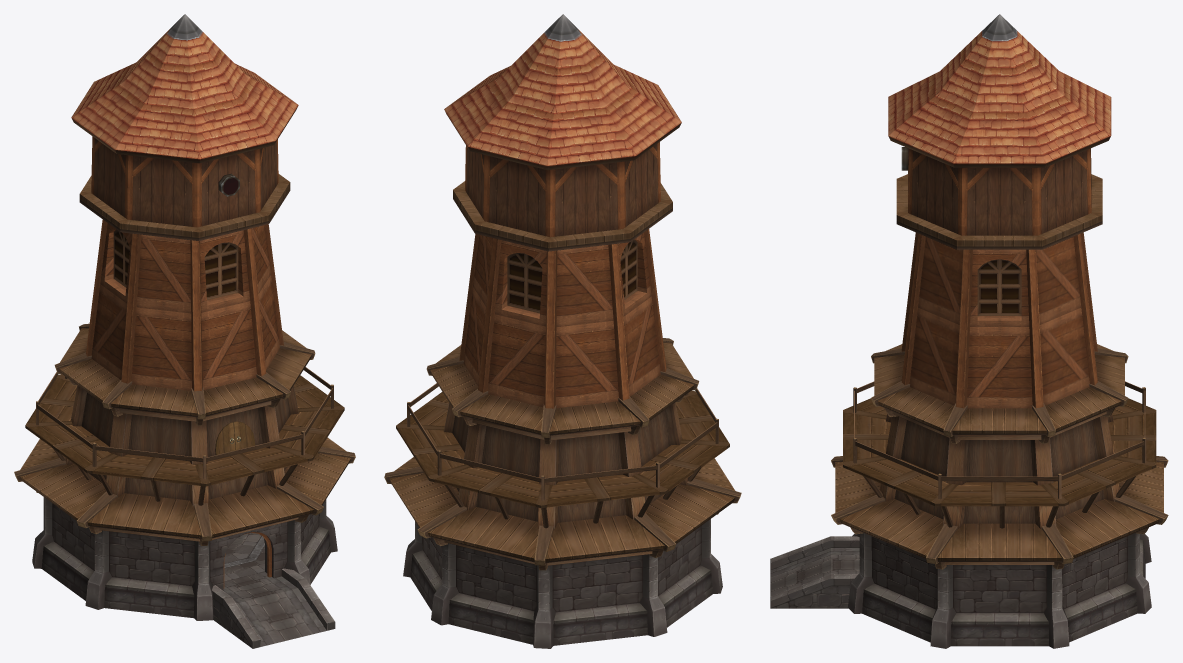
Rendered from Tower (1).fbx.
The picture shows the model from 3 angles, left to right: view 1: azimuth 30°, elevation 25°; view 2: azimuth 150°, elevation 25°; view 3: azimuth 270°, elevation 25°; orthographic projection. The views are drawn at different scales.
Parts seen in each view (by area): view 1: Windmill_LOD0; view 2: Windmill_LOD0; view 3: Windmill_LOD0.
Boxes of the visible parts, x1,y1,x2,y2 form: Windmill_LOD0: [14, 14, 355, 648]; Windmill_LOD0: [384, 14, 741, 648]; Windmill_LOD0: [770, 14, 1168, 648].
Bounding box in the file's own units: 1452 × 2721 × 1712.
1 material, 1 textured.
